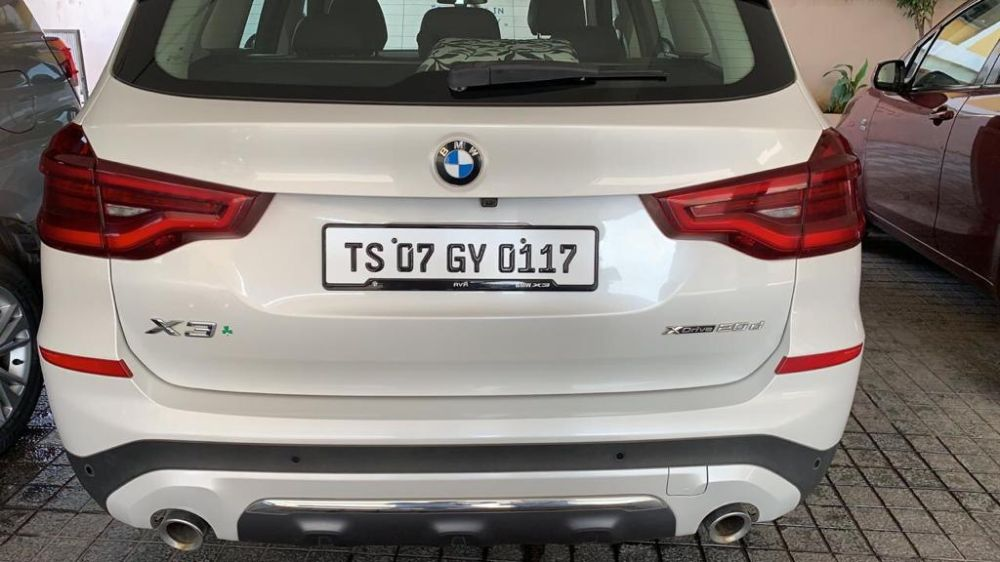number_plate: (317, 218, 601, 312)
